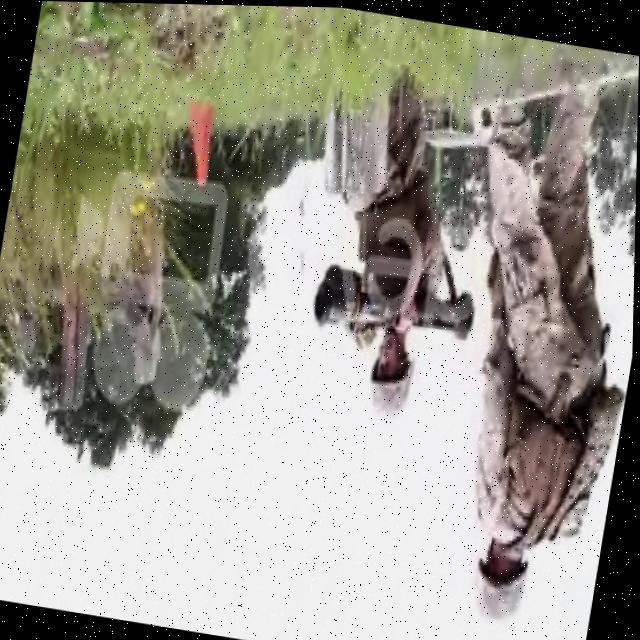rocket: (312, 262, 481, 350)
